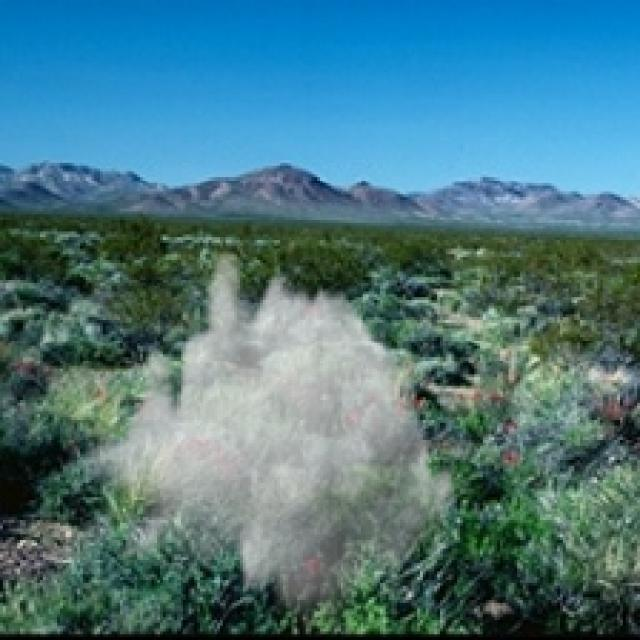Smoke: (86, 242, 460, 634)
